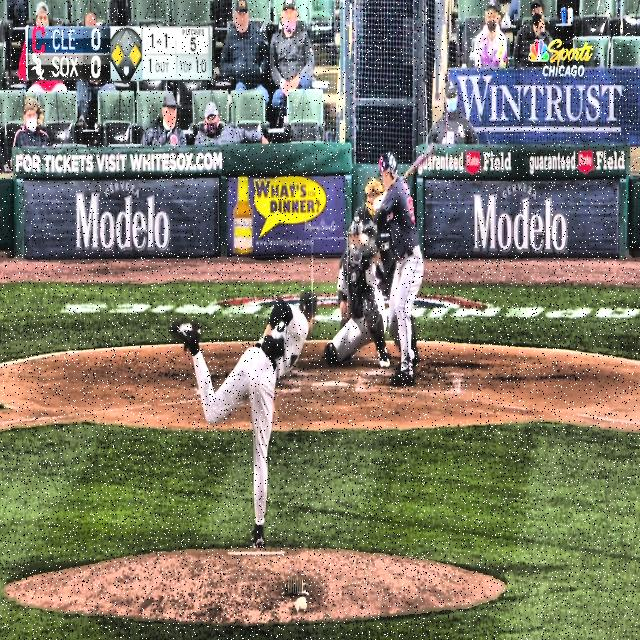baseball: (359, 232, 369, 246)
